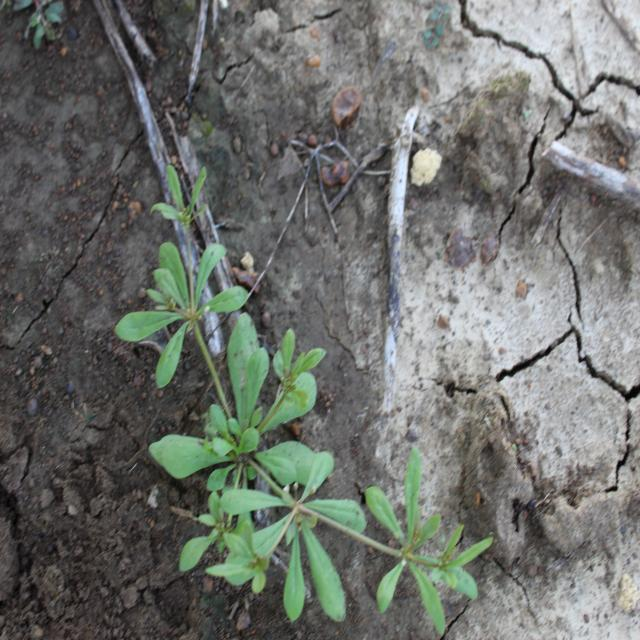Carpetweed: (112, 161, 495, 638)
